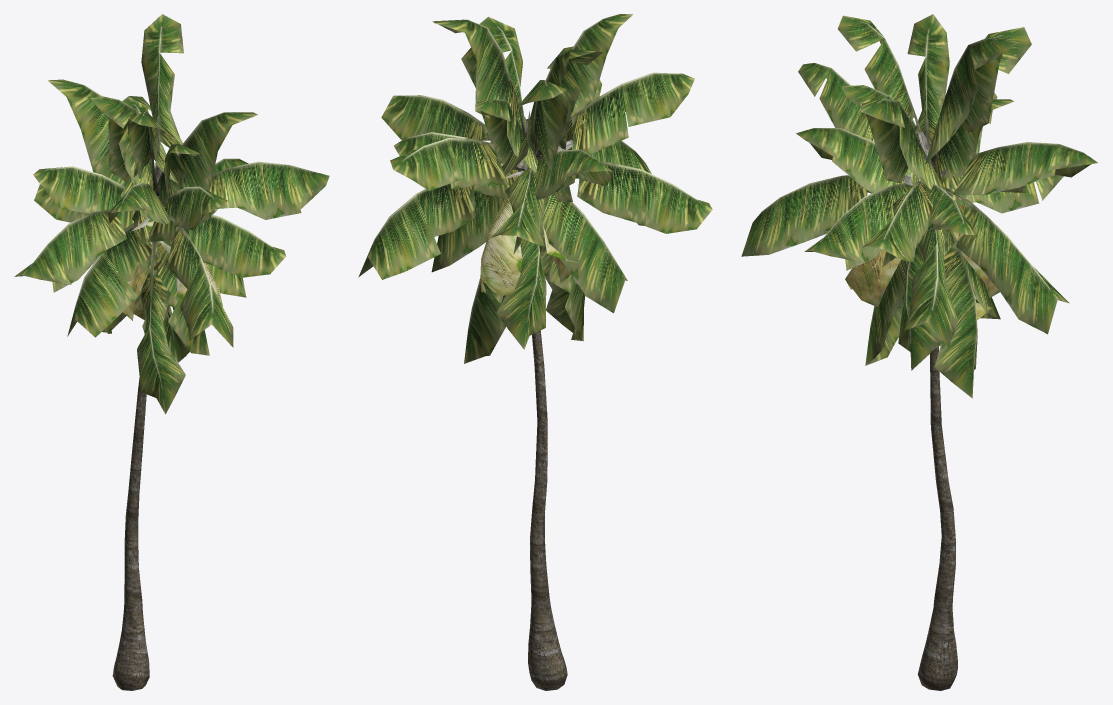
File: Palm_Tree_Large_d.fbx
3 views of the same model, side by side, from view 1: azimuth 30°, elevation 25°; view 2: azimuth 150°, elevation 25°; view 3: azimuth 270°, elevation 25° (orthographic). The views are drawn at different scales.
Visible parts, largest first — view 1: leaf_tree_large_d_mesh, trunk_tree_large_d_mesh; view 2: leaf_tree_large_d_mesh, trunk_tree_large_d_mesh; view 3: leaf_tree_large_d_mesh, trunk_tree_large_d_mesh.
Boxes of the visible parts, x1,y1,x2,y2 form: leaf_tree_large_d_mesh: (14, 14, 329, 414); trunk_tree_large_d_mesh: (112, 196, 158, 690); leaf_tree_large_d_mesh: (358, 14, 712, 363); trunk_tree_large_d_mesh: (528, 330, 567, 690); leaf_tree_large_d_mesh: (741, 14, 1097, 398); trunk_tree_large_d_mesh: (917, 346, 957, 690).
Size of the model in its own units: 8.25 by 16.38 by 7.8.
Materials: 2 (2 with a texture image).
